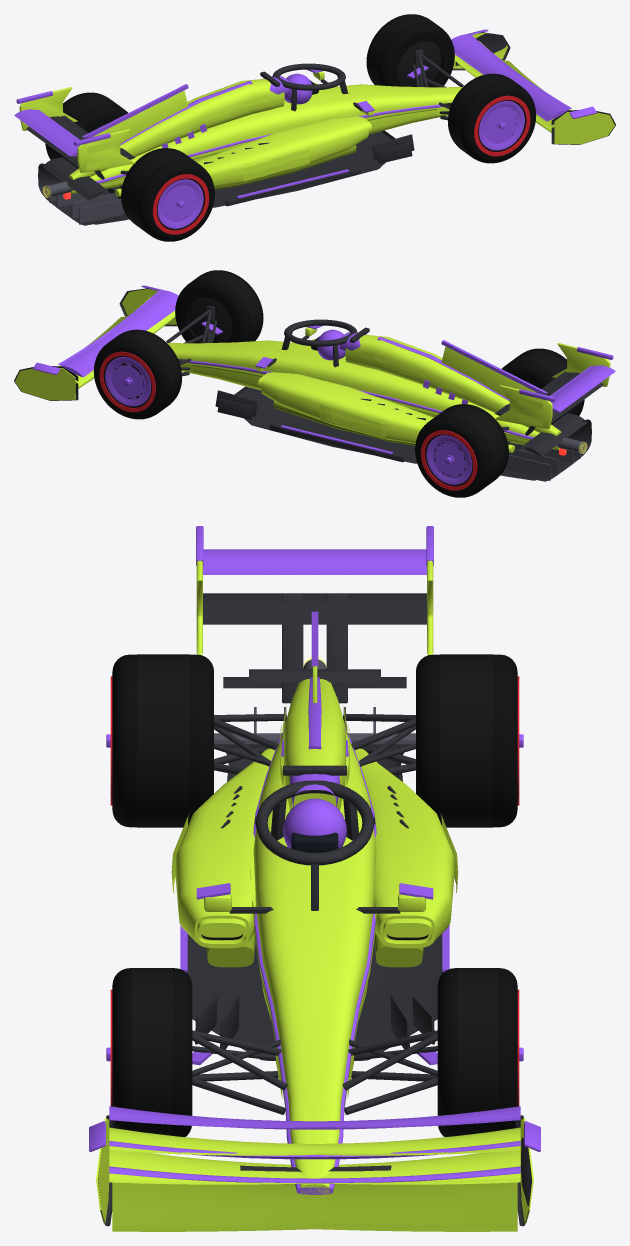
Rendered from f1-car-A.glb.
3 renders of one model, top to bottom at view 1: azimuth 30°, elevation 25°; view 2: azimuth 150°, elevation 25°; view 3: azimuth 270°, elevation 25°, orthographic. The views are drawn at different scales.
Parts seen in each view (by area): view 1: PW_Primary, PW_Carbon, PW_Tyre, PW_Accent, PW_TyreCrown, PW_Rim, PW_CarbonLight, PW_CompoundBand, PW_RimBarrel, PW_Secondary, PW_Decal_sidepod, PW_Decal_floorEdge; view 2: PW_Primary, PW_Tyre, PW_Carbon, PW_Accent, PW_TyreCrown, PW_Rim, PW_CarbonLight, PW_CompoundBand, PW_RimBarrel, PW_Secondary, PW_Decal_sidepod, PW_Decal_floorEdge; view 3: PW_Primary, PW_Carbon, PW_TyreCrown, PW_Tyre, PW_Accent, PW_Secondary, PW_CarbonLight, PW_CompoundBand.
Boxes of the visible parts, <box> form: PW_Primary: <box>19,33,614,196</box>; PW_Carbon: <box>26,32,615,225</box>; PW_Tyre: <box>45,14,536,241</box>; PW_Accent: <box>14,29,596,208</box>; PW_TyreCrown: <box>48,15,525,234</box>; PW_Rim: <box>157,101,524,228</box>; PW_CarbonLight: <box>45,181,124,224</box>; PW_CompoundBand: <box>152,95,530,234</box>; PW_RimBarrel: <box>93,41,516,223</box>; PW_Secondary: <box>72,60,551,190</box>; PW_Decal_sidepod: <box>243,149,310,180</box>; PW_Decal_floorEdge: <box>255,176,332,199</box>; PW_Primary: <box>15,289,610,452</box>; PW_Tyre: <box>93,270,584,497</box>; PW_Carbon: <box>14,288,603,481</box>; PW_Accent: <box>33,285,615,464</box>; PW_TyreCrown: <box>104,271,581,490</box>; PW_Rim: <box>105,357,472,484</box>; PW_CarbonLight: <box>505,437,584,480</box>; PW_CompoundBand: <box>99,351,477,490</box>; PW_RimBarrel: <box>115,297,536,479</box>; PW_Secondary: <box>78,316,557,446</box>; PW_Decal_sidepod: <box>319,405,386,436</box>; PW_Decal_floorEdge: <box>297,432,374,455</box>; PW_Primary: <box>96,560,533,1223</box>; PW_Carbon: <box>98,593,531,1226</box>; PW_TyreCrown: <box>131,654,498,1135</box>; PW_Tyre: <box>112,654,517,1136</box>; PW_Accent: <box>89,526,540,1194</box>; PW_Secondary: <box>112,925,517,1231</box>; PW_CarbonLight: <box>214,659,415,748</box>; PW_CompoundBand: <box>110,676,519,1106</box>.
Size of the model in its own units: 5.64 by 1.12 by 2.12.
